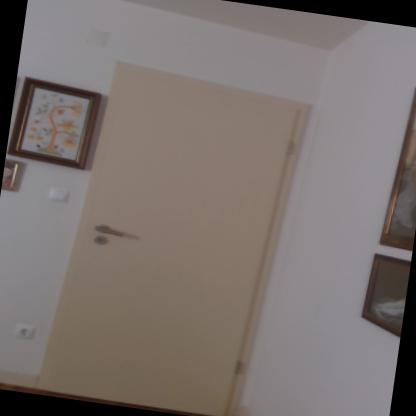closed: (52, 58, 321, 415)
